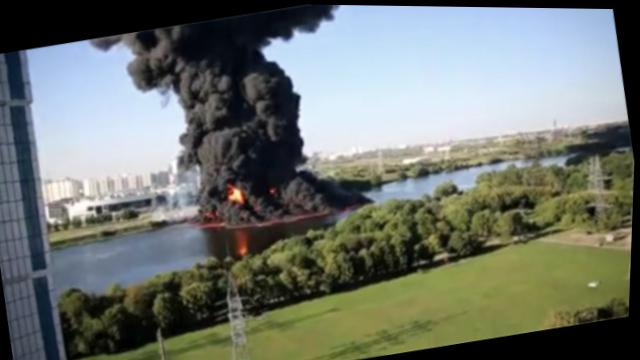fire: (225, 184, 245, 203)
